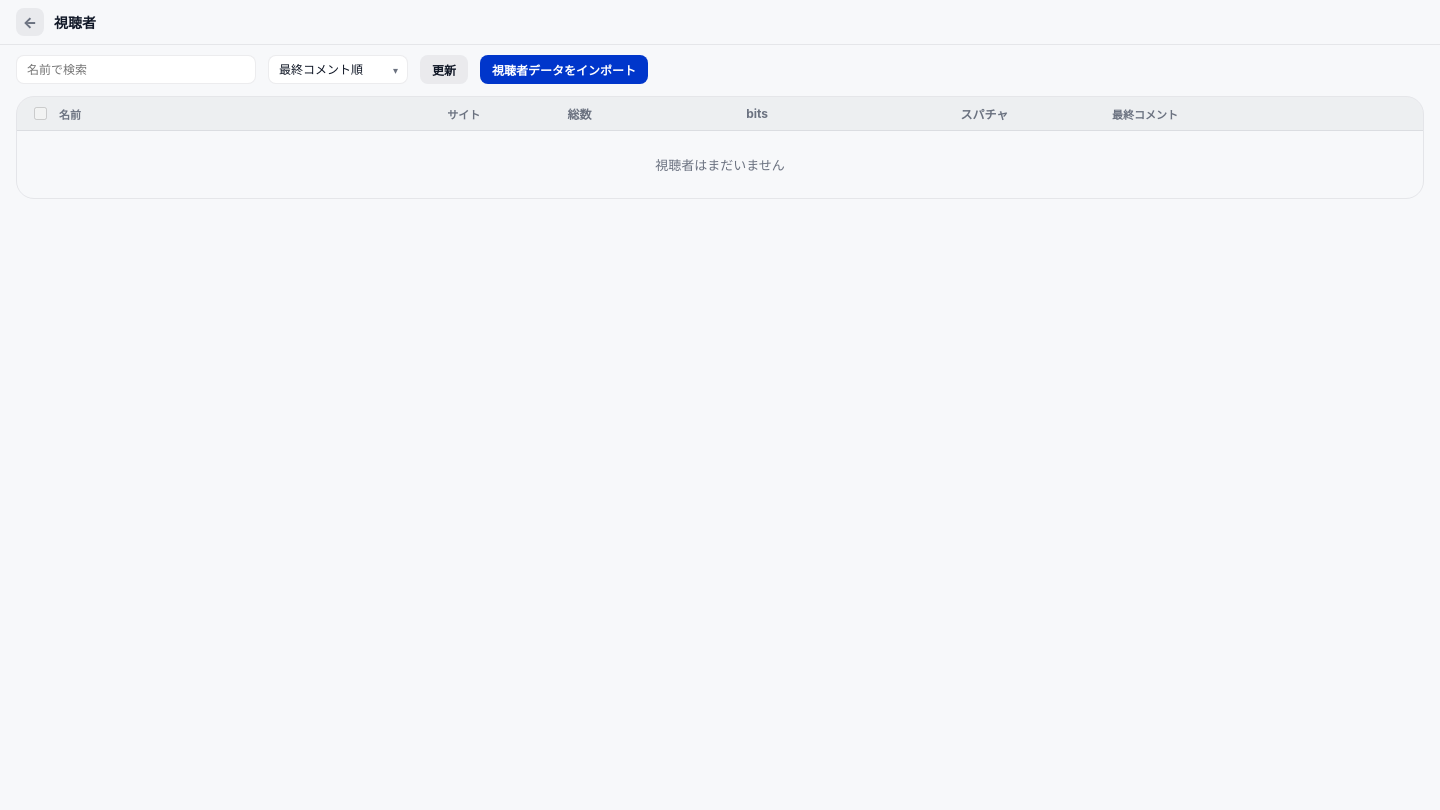
ViewersView 視聴者データ CSV のインポート（065b） › ⚠⚠ ConfirmDialog を経ずには実行されない（ボタンだけでは open() も command も呼ばない）
Expected: the text "視聴者はまだいません" is shown, 655,157 -> 785,173
Click the button "視聴者データをインポート": point(564, 70) 480,55 -> 648,84
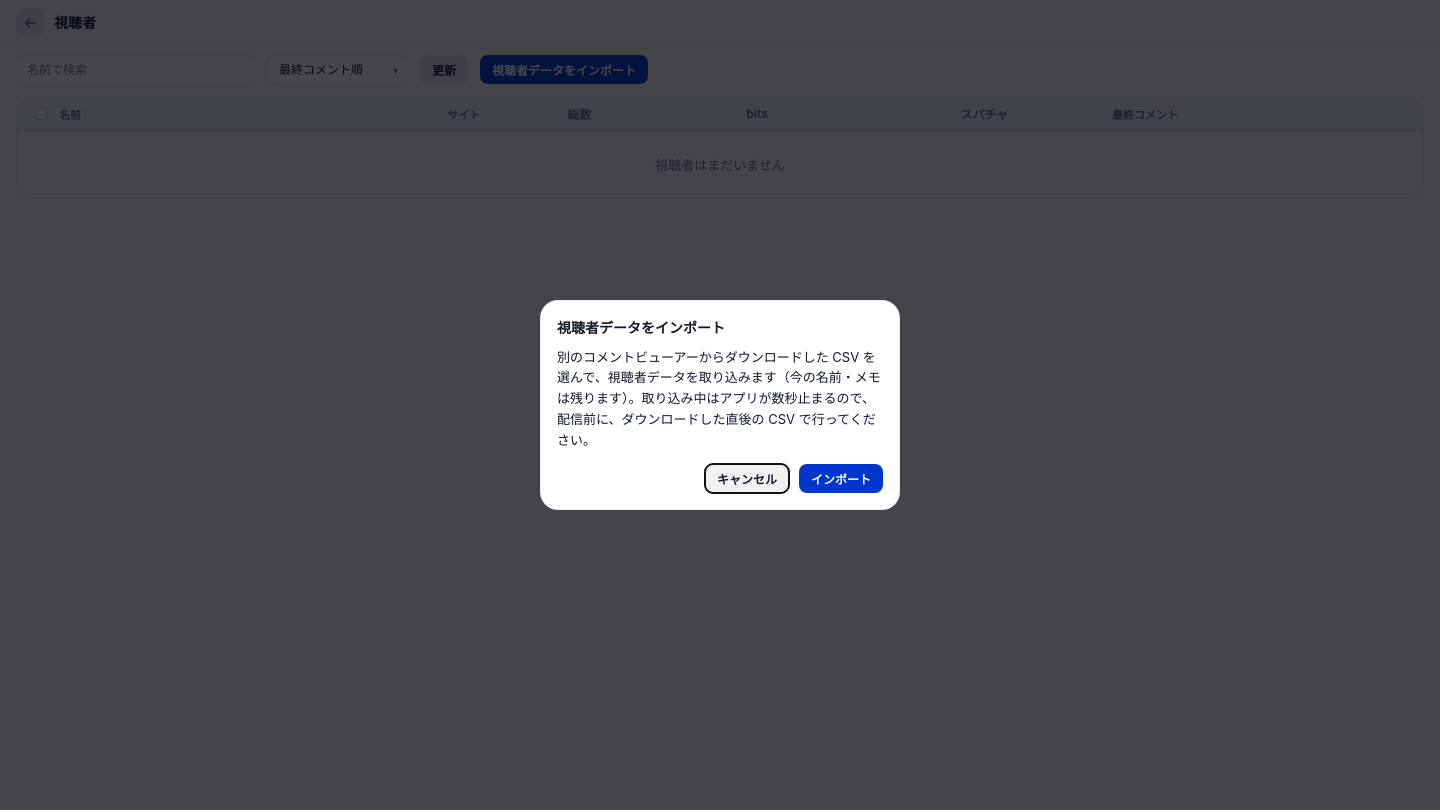
Result: the dialog is shown at 540,300 -> 900,510
